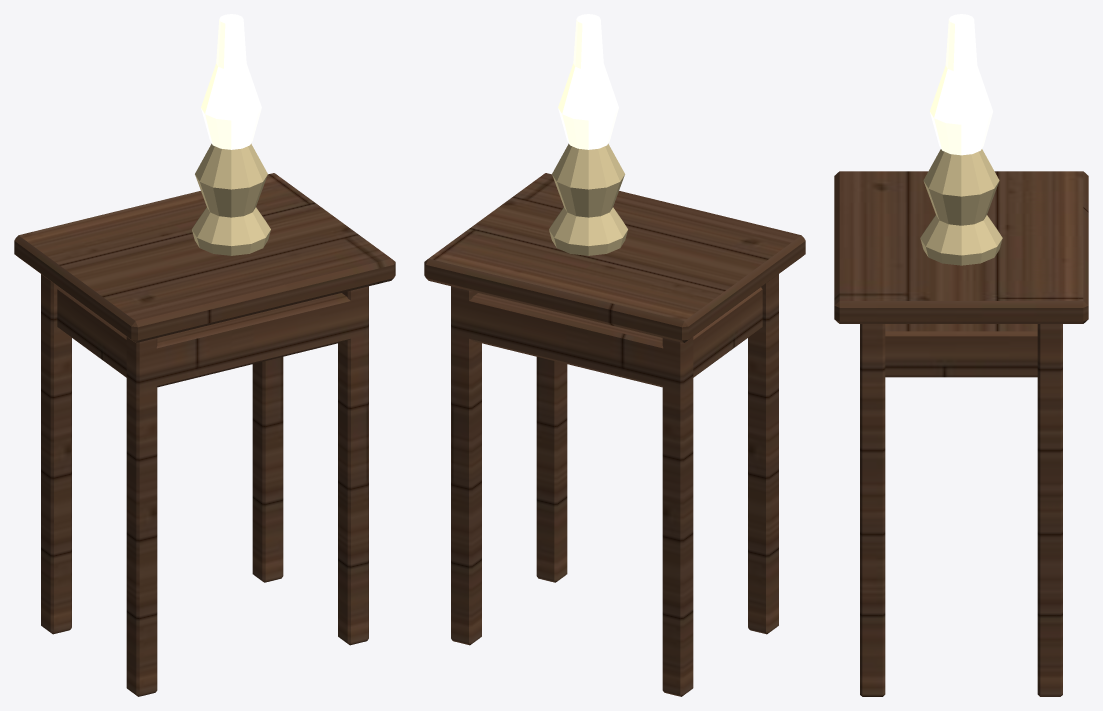
File: side_table.glb
3 renders of one model, left to right at view 1: azimuth 30°, elevation 25°; view 2: azimuth 150°, elevation 25°; view 3: azimuth 270°, elevation 25°, orthographic. The views are drawn at different scales.
Parts seen in each view (by area): view 1: side_table_dkwood, side_table_brass, side_table_lamp_glass; view 2: side_table_dkwood, side_table_brass, side_table_lamp_glass; view 3: side_table_dkwood, side_table_brass, side_table_lamp_glass.
Boxes of the visible parts, <box> form: side_table_dkwood: <box>14,173,395,696</box>; side_table_brass: <box>192,143,270,255</box>; side_table_lamp_glass: <box>201,14,261,149</box>; side_table_dkwood: <box>424,173,805,696</box>; side_table_brass: <box>549,143,627,255</box>; side_table_lamp_glass: <box>558,14,618,149</box>; side_table_dkwood: <box>834,171,1088,696</box>; side_table_brass: <box>920,149,1002,265</box>; side_table_lamp_glass: <box>930,14,992,155</box>.
Size of the model in its own units: 0.5 by 1.1 by 0.4.
Materials: 3 (1 with a texture image).
